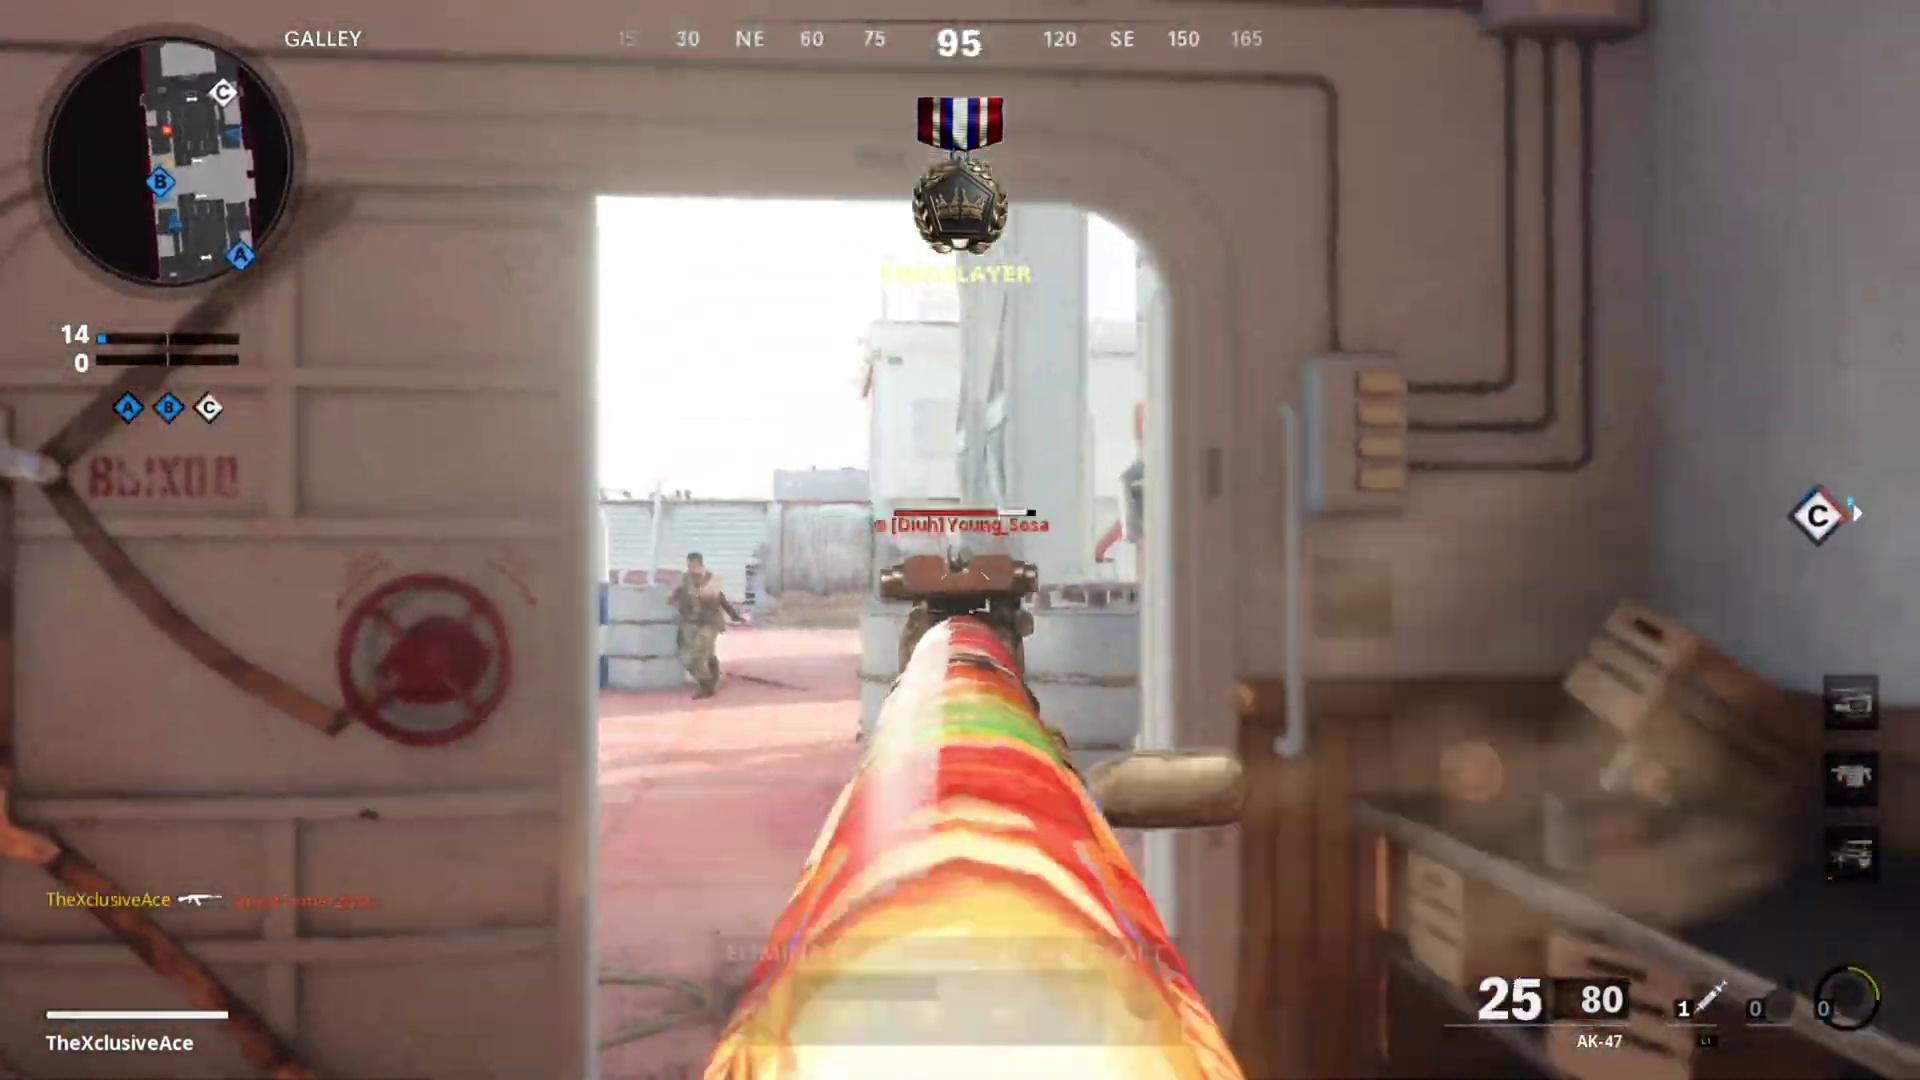head: (682, 545, 707, 584)
person: (660, 548, 742, 697)
